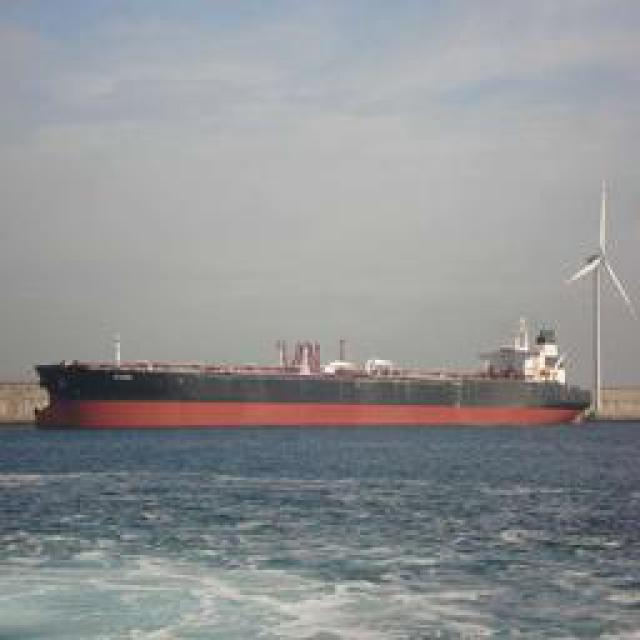Ship: (32, 356, 592, 434)
